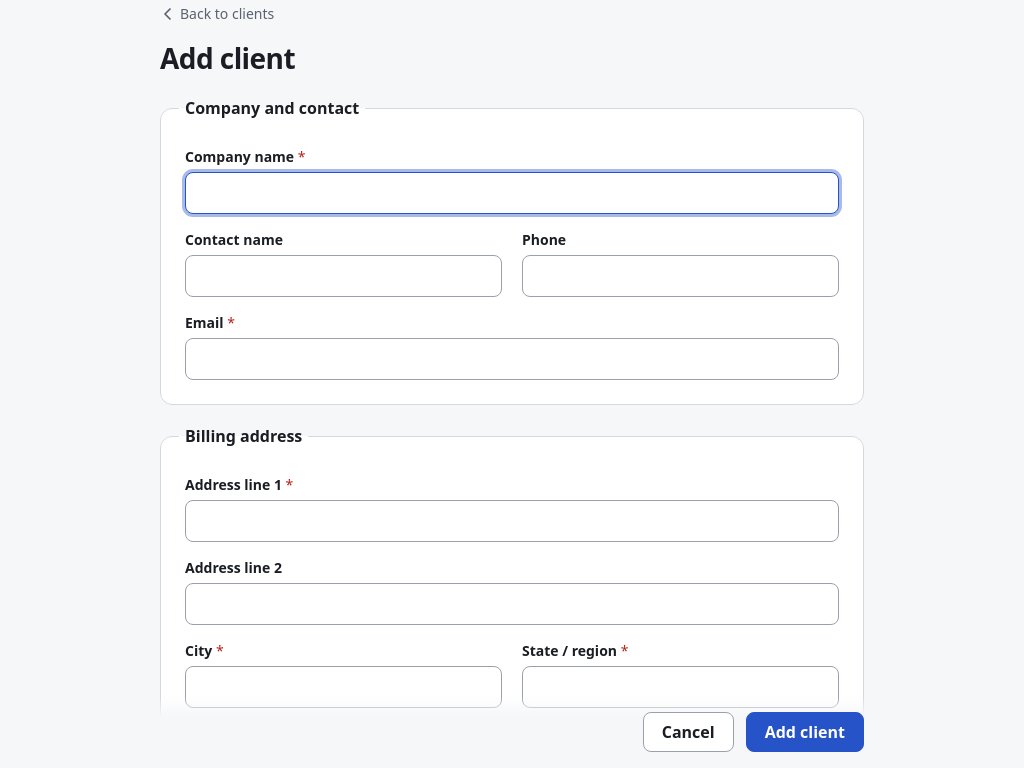
Test case: ClientForm › validates email and currency format when the field loses focus
This screenshot has width=1024, height=768.
Type "not-an-email" into the field labelled "Email *" at (512, 359), box left=185, top=338, right=839, bottom=380
(page scrolled)
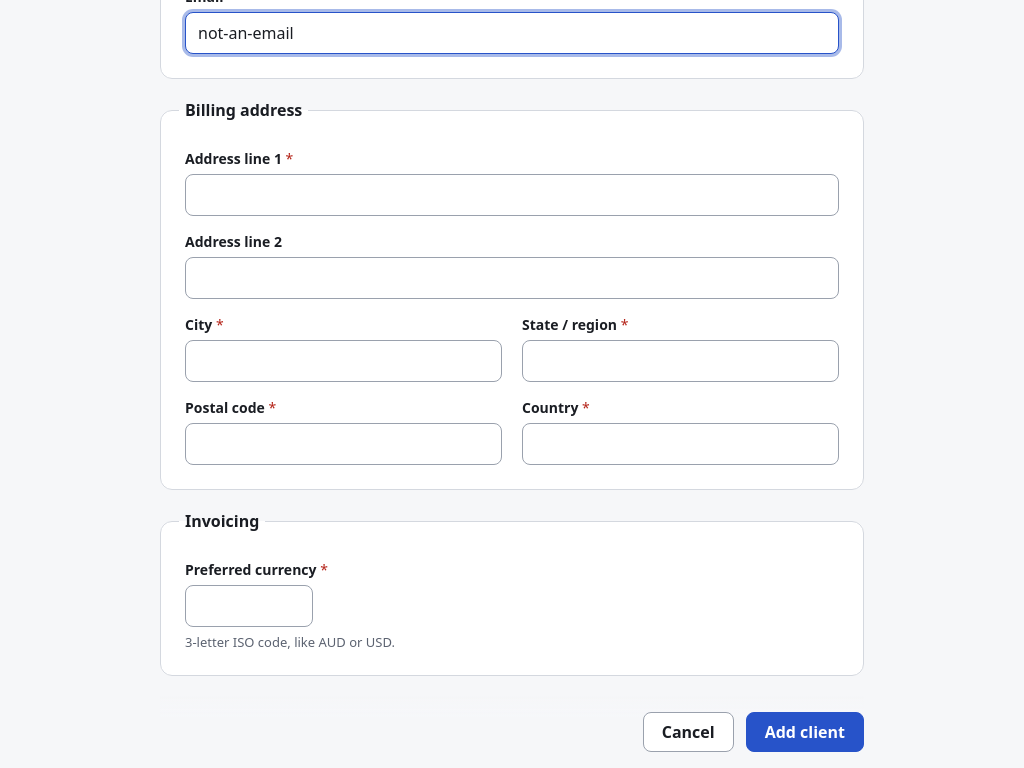
Type "us" into the field labelled "Preferred currency *" at (249, 606), box left=185, top=585, right=313, bottom=627
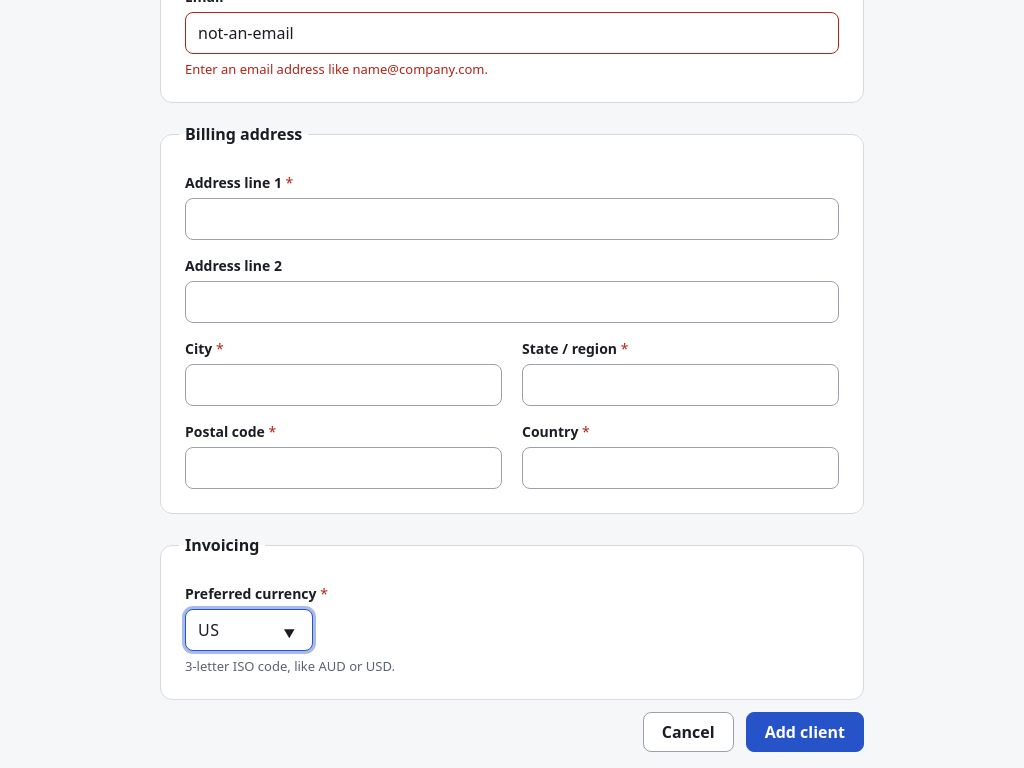
Press Tab
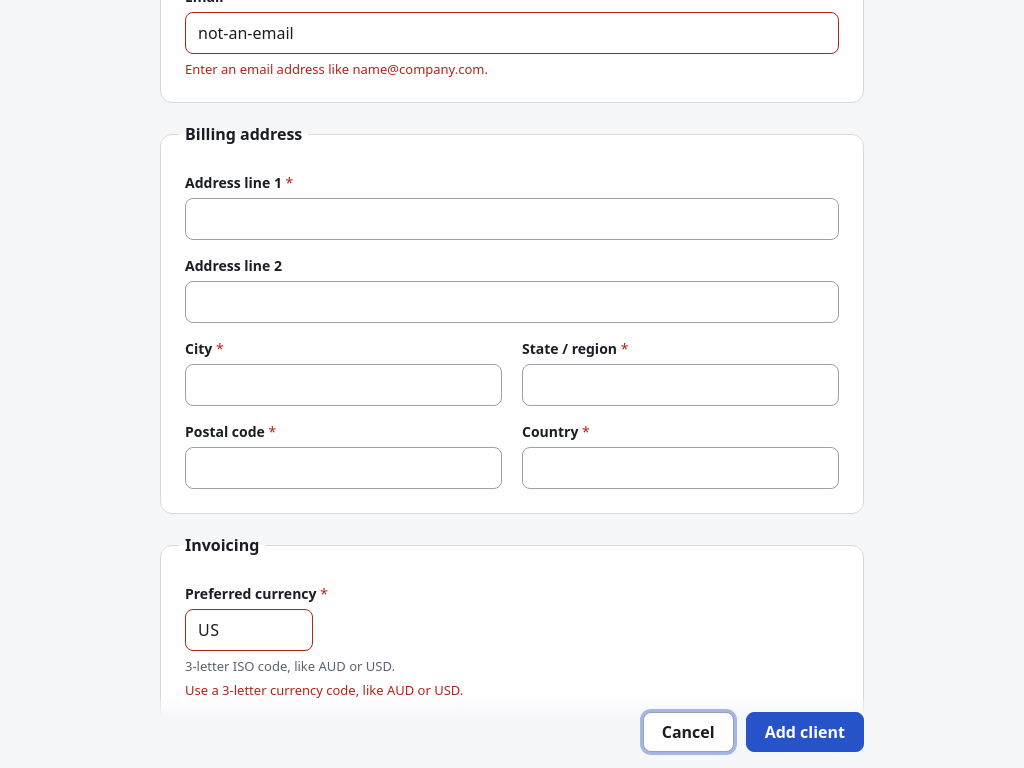
Expected: the text "Enter an email address like name@company.com." is shown, left=185, top=60, right=488, bottom=78
Expected: the text "Use a 3-letter currency code, like AUD or USD." is shown, left=185, top=681, right=502, bottom=700
